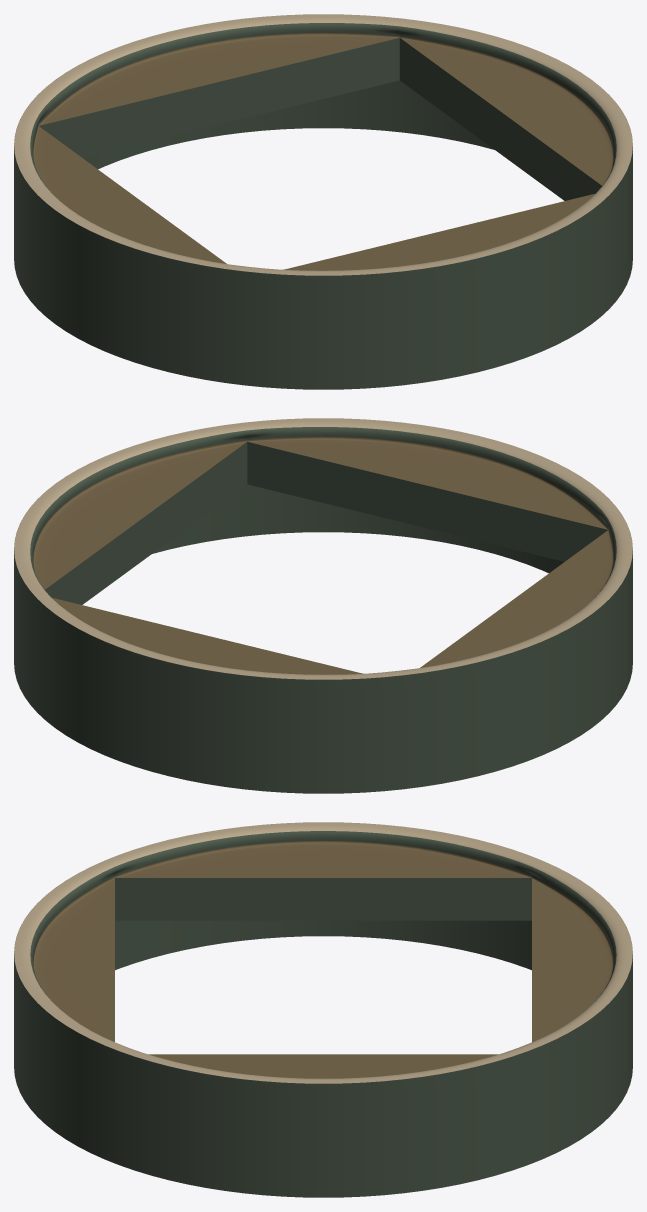
Rendered from Table_optimized.fbx.
3 renders of one model, top to bottom at view 1: azimuth 30°, elevation 25°; view 2: azimuth 150°, elevation 25°; view 3: azimuth 270°, elevation 25°, orthographic.
Visible parts, largest first — view 1: pCylinder4; view 2: pCylinder4; view 3: pCylinder4.
Boxes of the visible parts, x1,y1,x2,y2 form: pCylinder4: (14, 14, 632, 389); pCylinder4: (14, 418, 632, 793); pCylinder4: (14, 822, 632, 1197).
Bounding box in the file's own units: 223 × 45.24 × 223.
